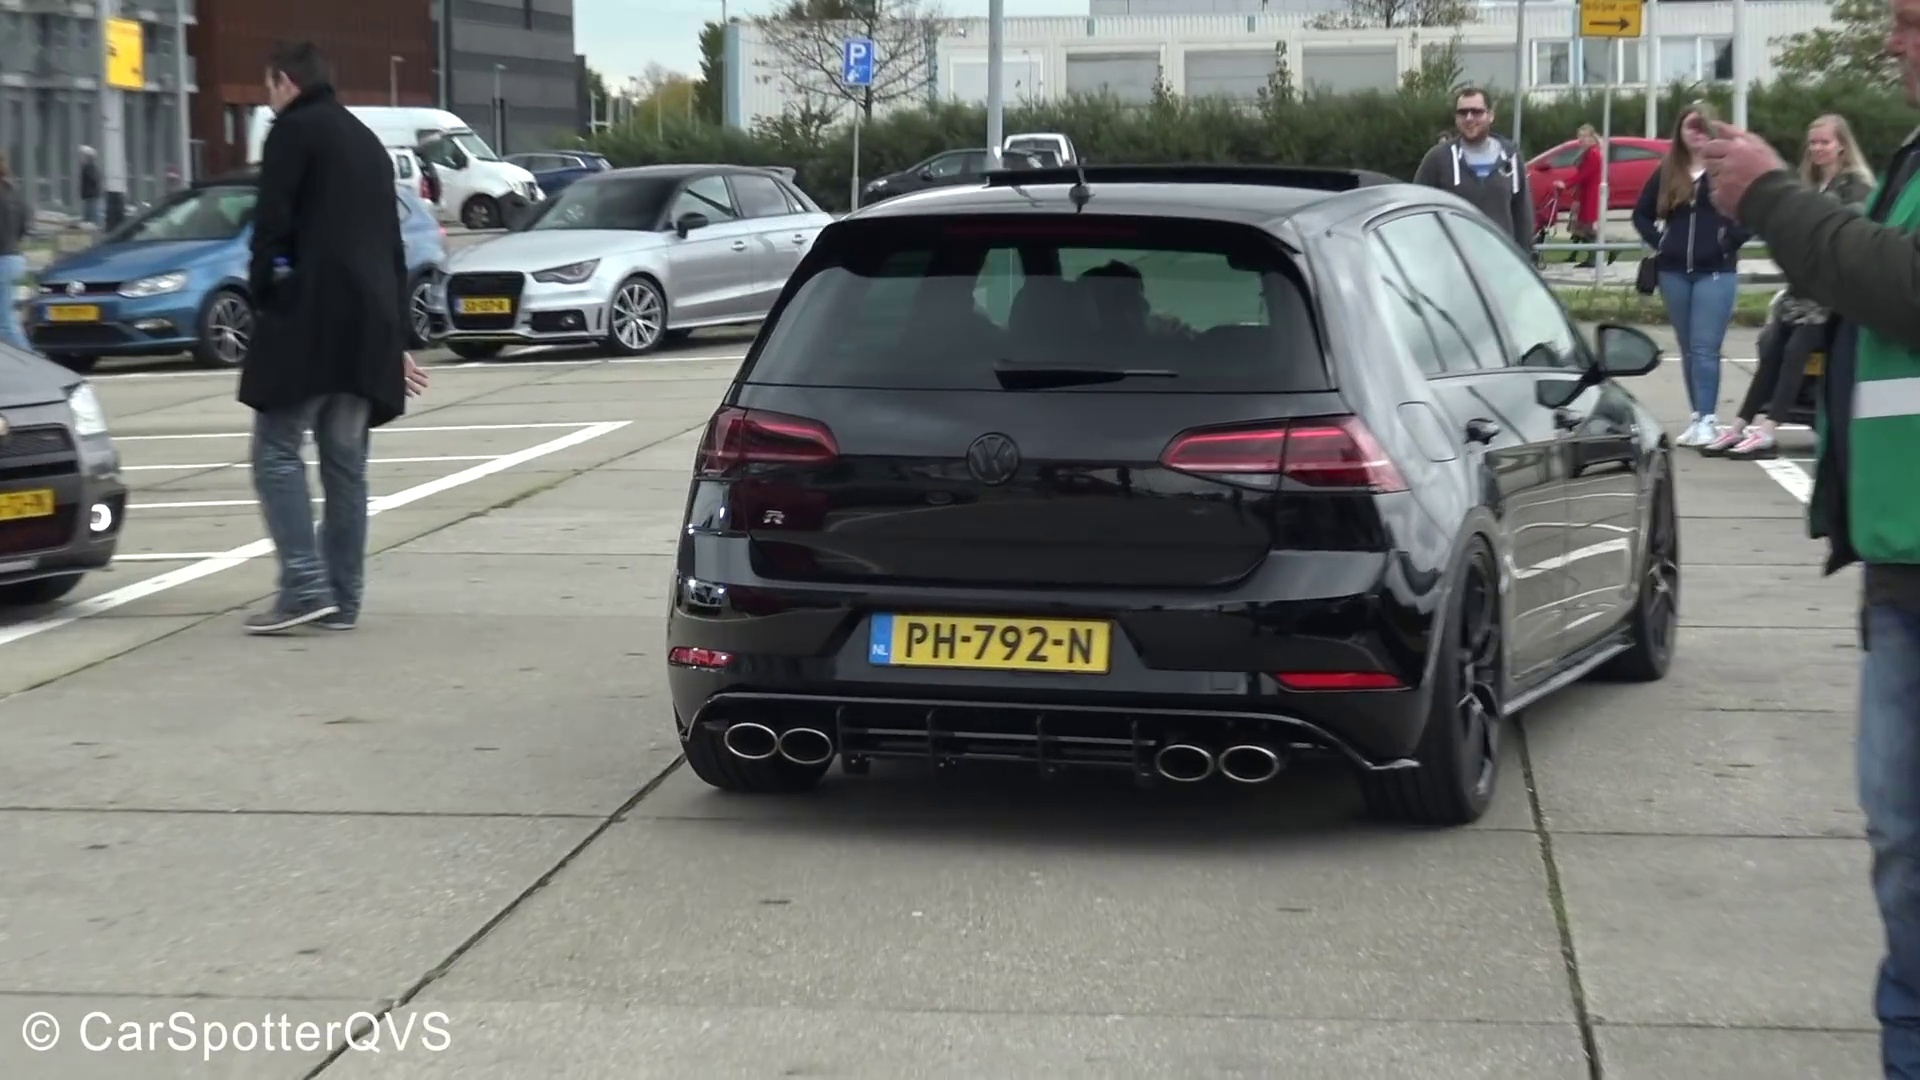num_plate: (858, 611, 1122, 676)
